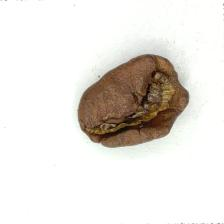NG: (129, 55, 190, 139)
